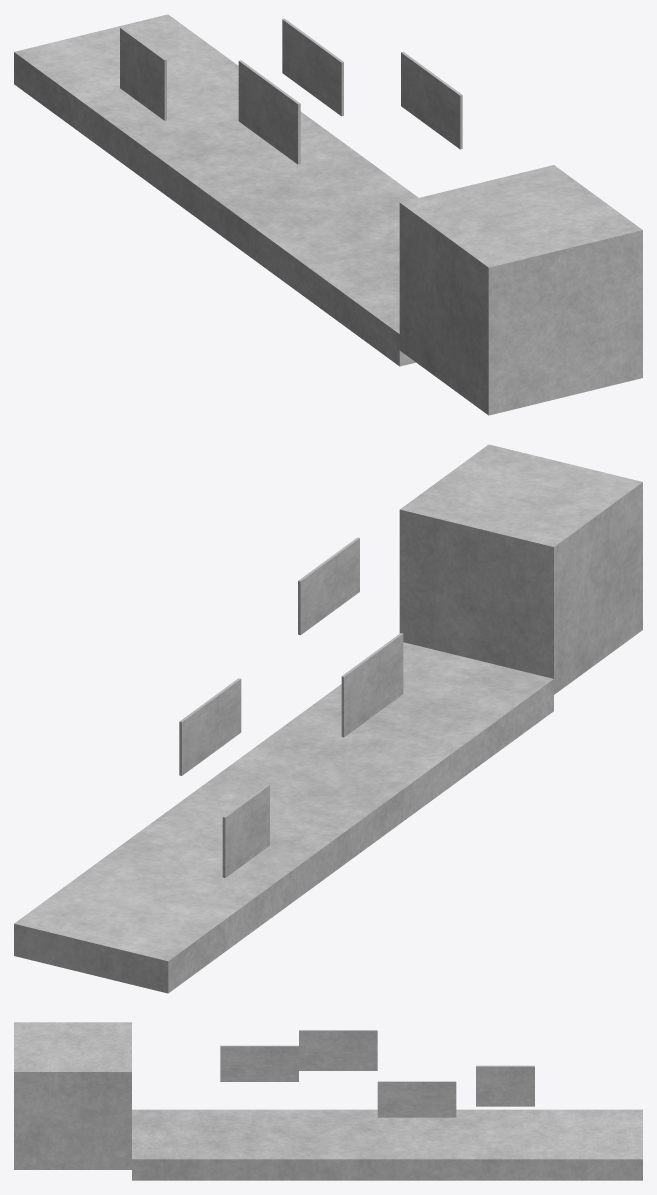
Rendered from dash.gltf.
3 views of the same model, one above another, from view 1: azimuth 30°, elevation 25°; view 2: azimuth 150°, elevation 25°; view 3: azimuth 270°, elevation 25° (orthographic). The views are drawn at different scales.
Visible parts, largest first — view 1: 立方体, 立方体.005, 立方体.003, 立方体.002, 立方体.004, 立方体.001; view 2: 立方体, 立方体.005, 立方体.003, 立方体.002, 立方体.004, 立方体.001; view 3: 立方体, 立方体.005, 立方体.003, 立方体.002, 立方体.004, 立方体.001.
Boxes of the visible parts, bbox=[...] form: 立方体: bbox=[14, 14, 418, 366]; 立方体.005: bbox=[399, 165, 642, 415]; 立方体.003: bbox=[238, 60, 300, 164]; 立方体.002: bbox=[282, 18, 343, 116]; 立方体.004: bbox=[401, 51, 462, 149]; 立方体.001: bbox=[120, 27, 166, 120]; 立方体: bbox=[14, 642, 553, 993]; 立方体.005: bbox=[399, 444, 642, 694]; 立方体.003: bbox=[341, 633, 403, 737]; 立方体.002: bbox=[179, 678, 241, 775]; 立方体.004: bbox=[298, 537, 359, 635]; 立方体.001: bbox=[222, 784, 269, 877]; 立方体: bbox=[132, 1109, 642, 1180]; 立方体.005: bbox=[14, 1022, 131, 1169]; 立方体.003: bbox=[299, 1030, 377, 1070]; 立方体.002: bbox=[377, 1081, 456, 1117]; 立方体.004: bbox=[220, 1045, 298, 1081]; 立方体.001: bbox=[476, 1065, 534, 1106].
Bounding box in the file's own units: 12 × 14.2 × 64.
1 material, 1 textured.
